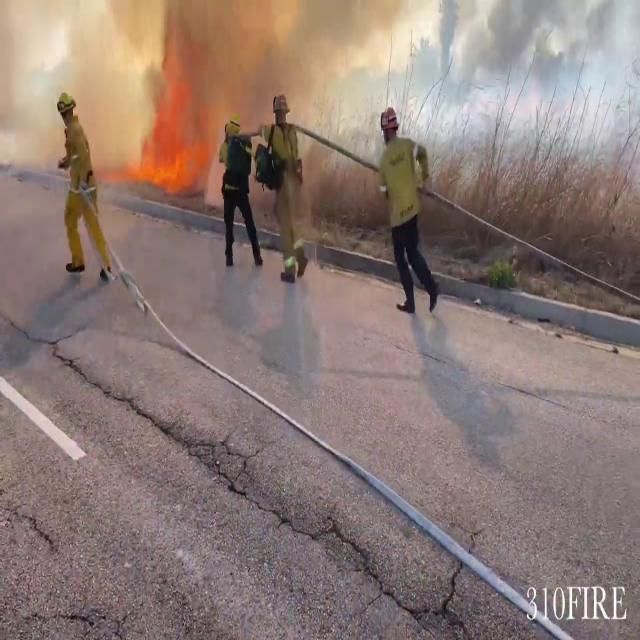Fire: (136, 58, 212, 192)
Smoke: (0, 0, 384, 131)
